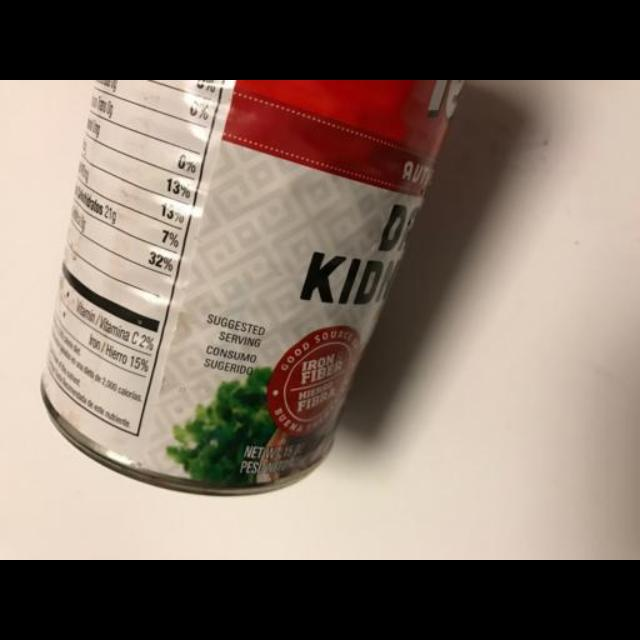lata: (42, 80, 468, 498)
